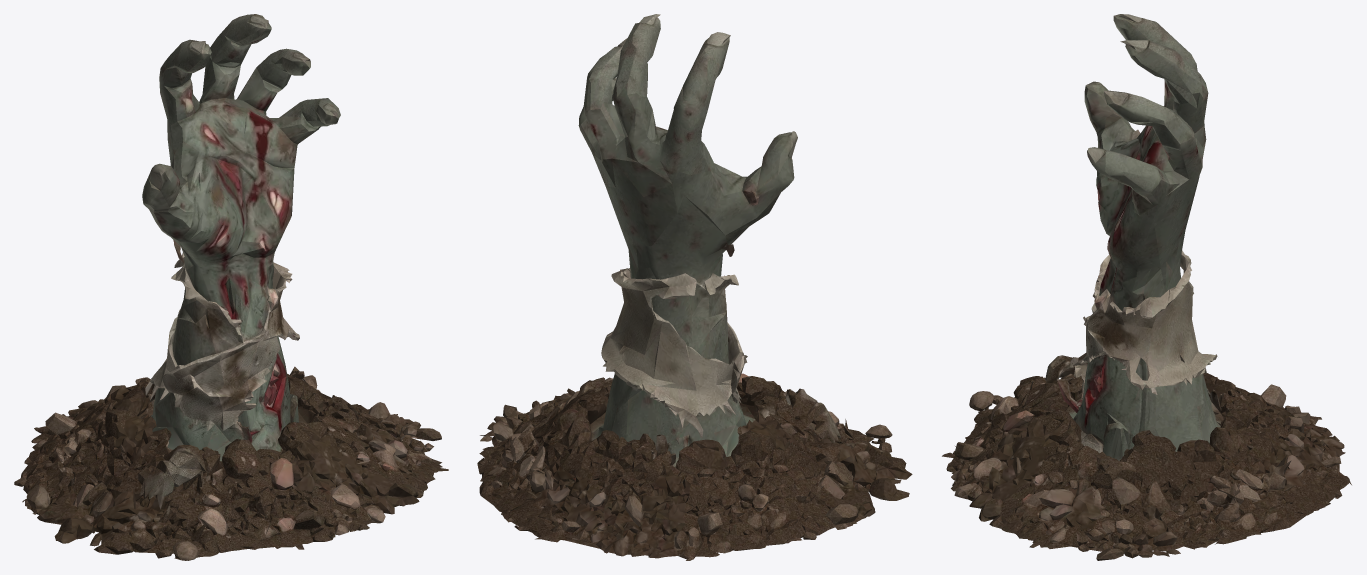
The model's file is restless-hand.glb.
3 renders of one model, left to right at view 1: azimuth 30°, elevation 25°; view 2: azimuth 150°, elevation 25°; view 3: azimuth 270°, elevation 25°, orthographic.
Parts seen in each view (by area): view 1: output_unwrapped; view 2: output_unwrapped; view 3: output_unwrapped.
Part boxes in pixels (x1=…): output_unwrapped: x1=14, y1=14, x2=448, y2=560; output_unwrapped: x1=477, y1=14, x2=912, y2=560; output_unwrapped: x1=942, y1=14, x2=1351, y2=560.
Size of the model in its own units: 1.72 by 1.85 by 1.56.
1 material, 1 textured.
